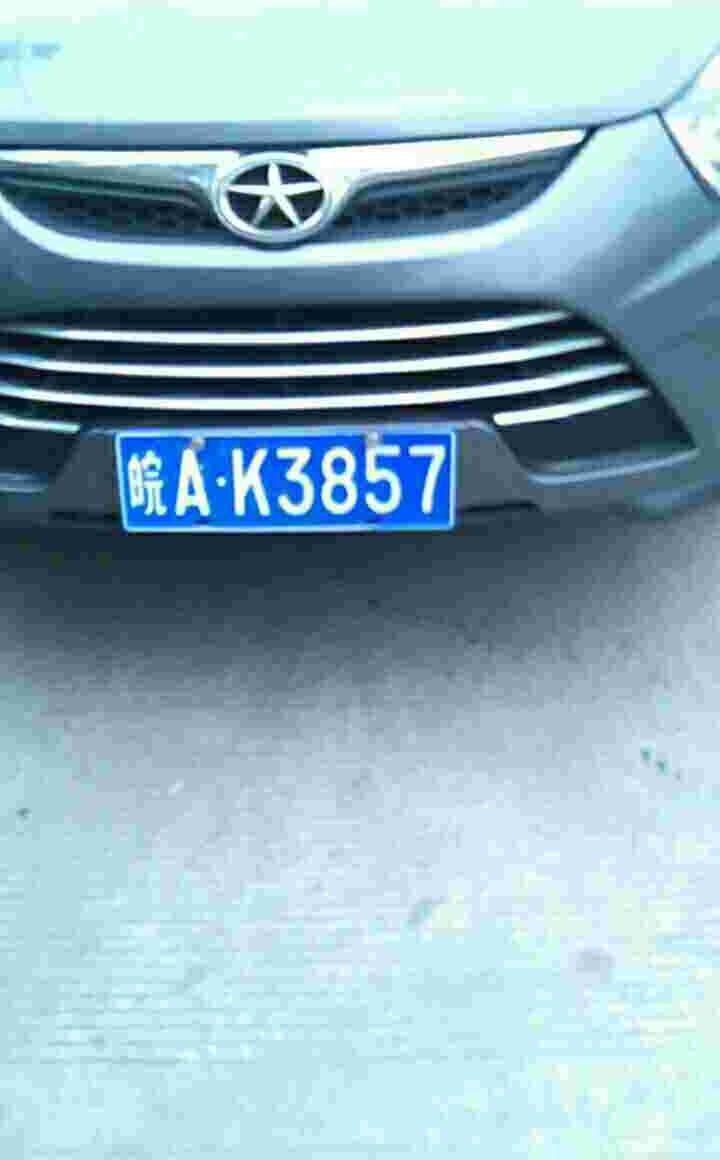license_plate: (115, 422, 455, 537)
